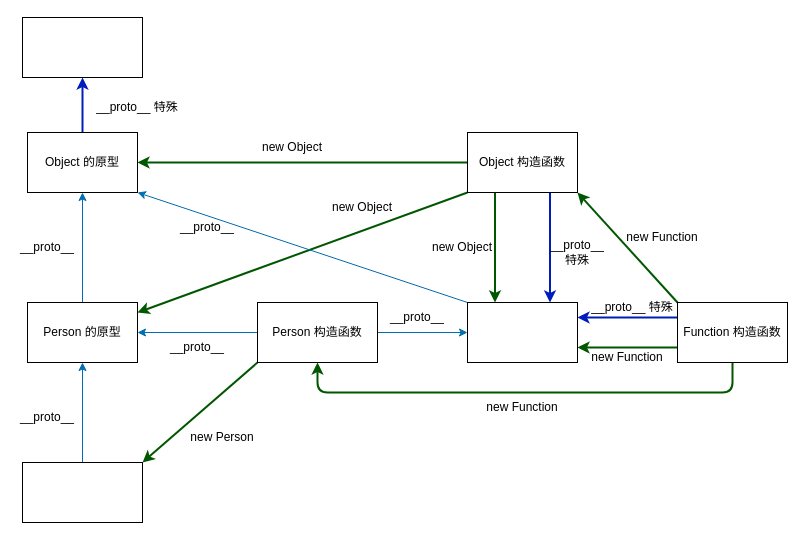
This 805x540 diagram has some shape labels left out. The centre of each missing label's shape, as x and y in pixels:
"Function 的原型" goes at point 522,332.
"null" goes at point 82,47.
"Person 的实例对象" goes at point 82,492.
